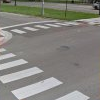crosswalk: (0, 48, 90, 100), (10, 22, 68, 33)
